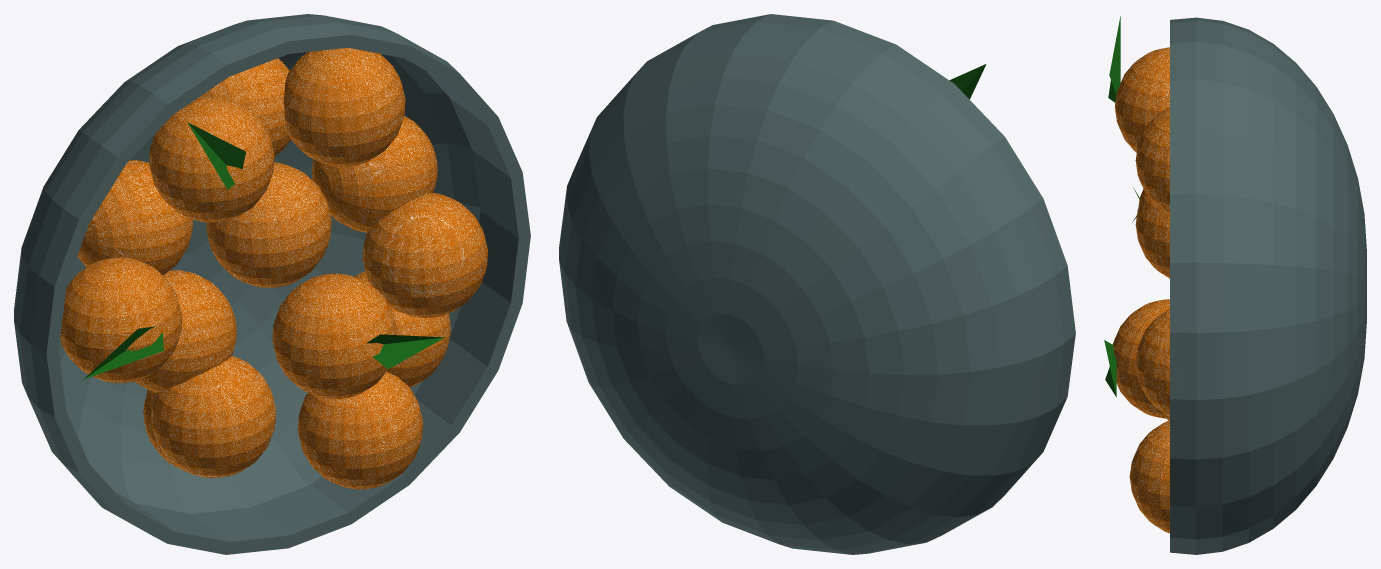
3 views of the same model, side by side, from view 1: azimuth 30°, elevation 25°; view 2: azimuth 150°, elevation 25°; view 3: azimuth 270°, elevation 25° (orthographic). The views are drawn at different scales.
Visible parts, largest first — view 1: bowl of oranges; view 2: bowl of oranges; view 3: bowl of oranges.
Boxes of the visible parts, x1=… form: bowl of oranges: x1=14, y1=14, x2=530, y2=554; bowl of oranges: x1=559, y1=14, x2=1075, y2=554; bowl of oranges: x1=1104, y1=16, x2=1366, y2=554.
Bounding box in the file's own units: 8.07 × 8.07 × 3.93.
